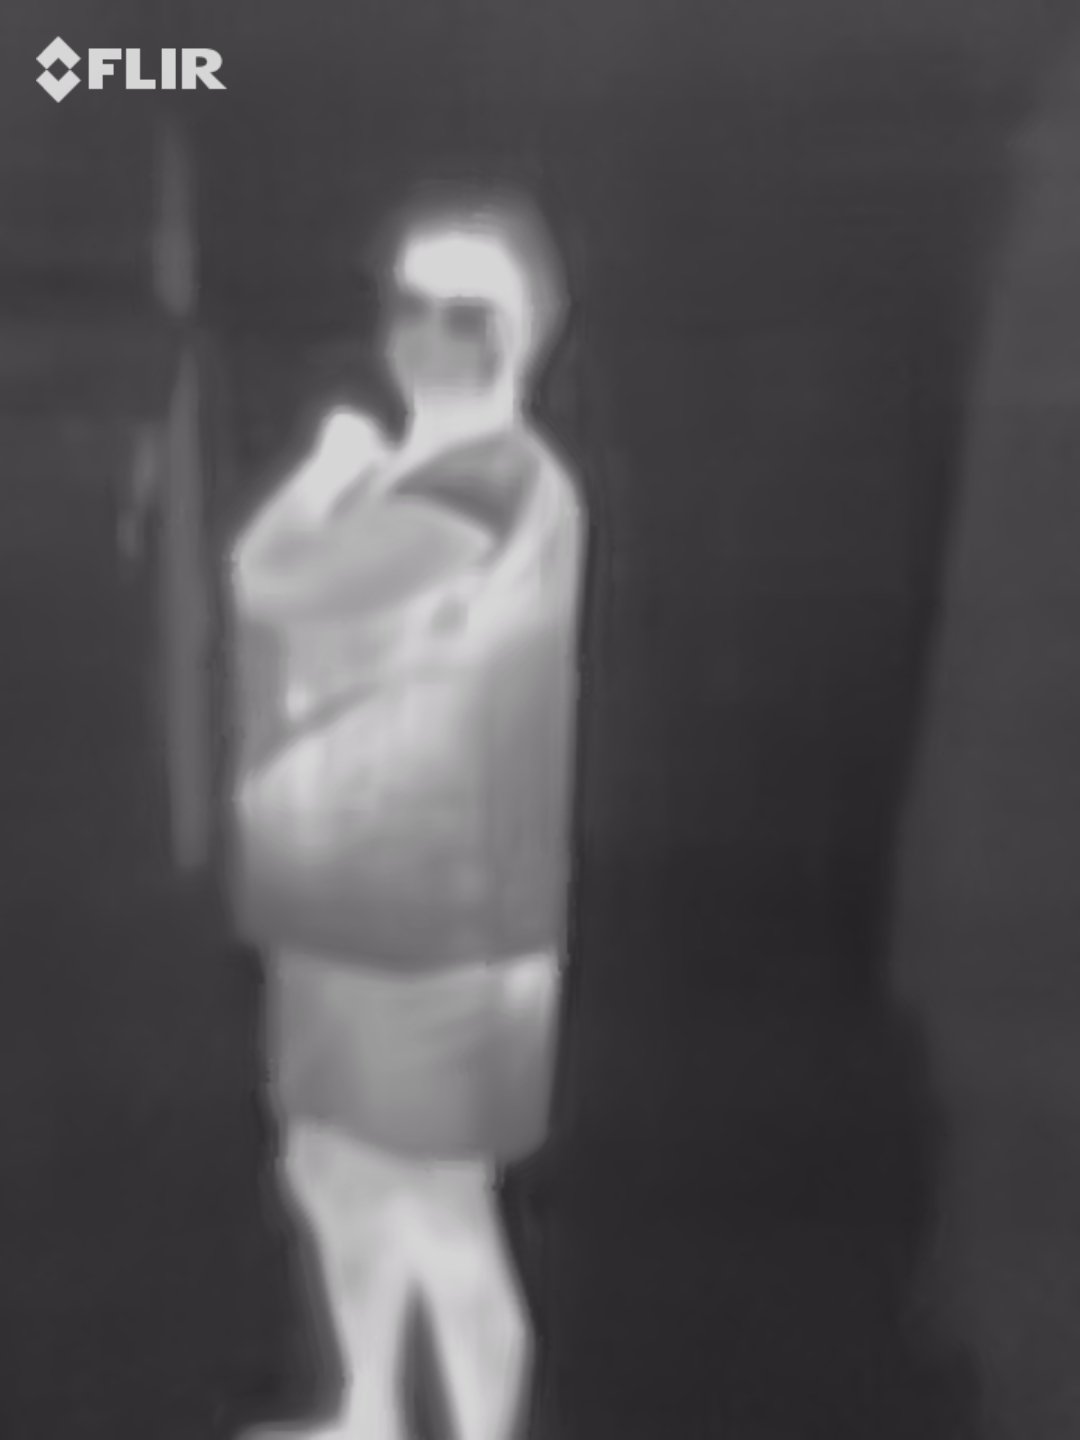head: (366, 195, 569, 422)
